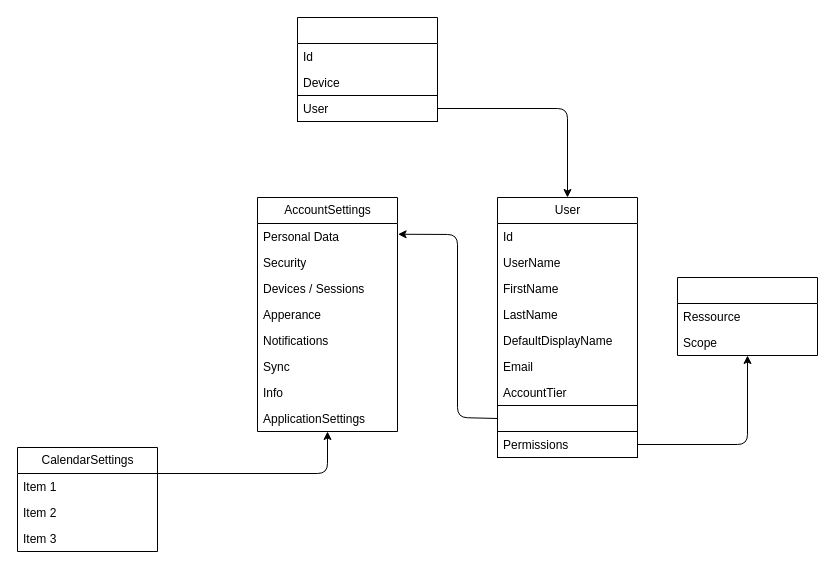
Some shapes in this 835 by 572 pixel diagram are drawn without their labels. Here are the shapes that lost their labels. From the top down, the box of each, then its label:
(296, 16, 438, 122): Session
(676, 276, 818, 356): Permission
(496, 404, 638, 432): Settings
